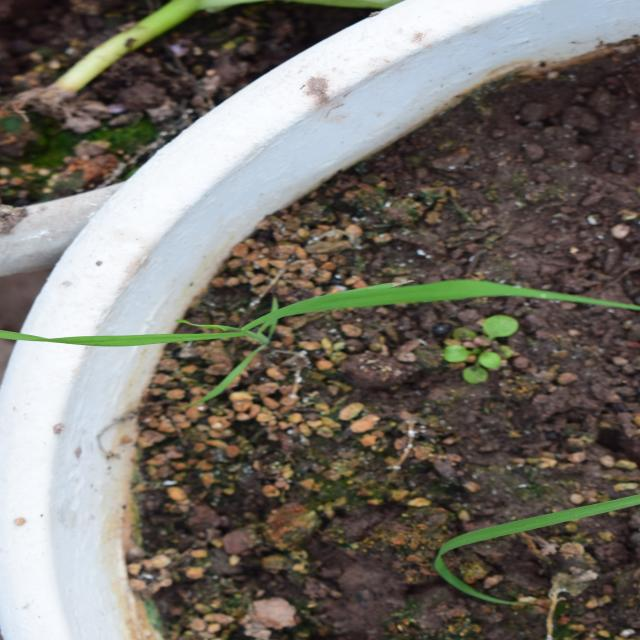barnyard_grass: (268, 7, 411, 586)
